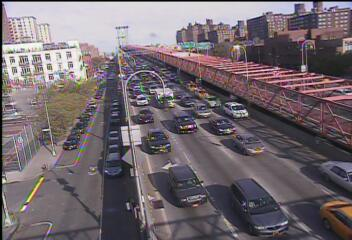neg: (166, 152, 198, 195), (284, 56, 314, 96), (77, 117, 106, 156), (310, 156, 339, 194), (132, 135, 158, 171), (201, 113, 227, 149), (256, 135, 280, 167), (2, 121, 26, 153), (51, 176, 72, 204), (7, 72, 27, 99), (35, 53, 55, 78), (233, 54, 252, 80), (53, 19, 71, 44), (166, 68, 184, 92), (18, 184, 36, 208), (180, 26, 197, 48), (256, 20, 272, 42), (248, 200, 264, 221), (61, 97, 74, 115), (124, 23, 136, 39), (39, 158, 50, 173)
